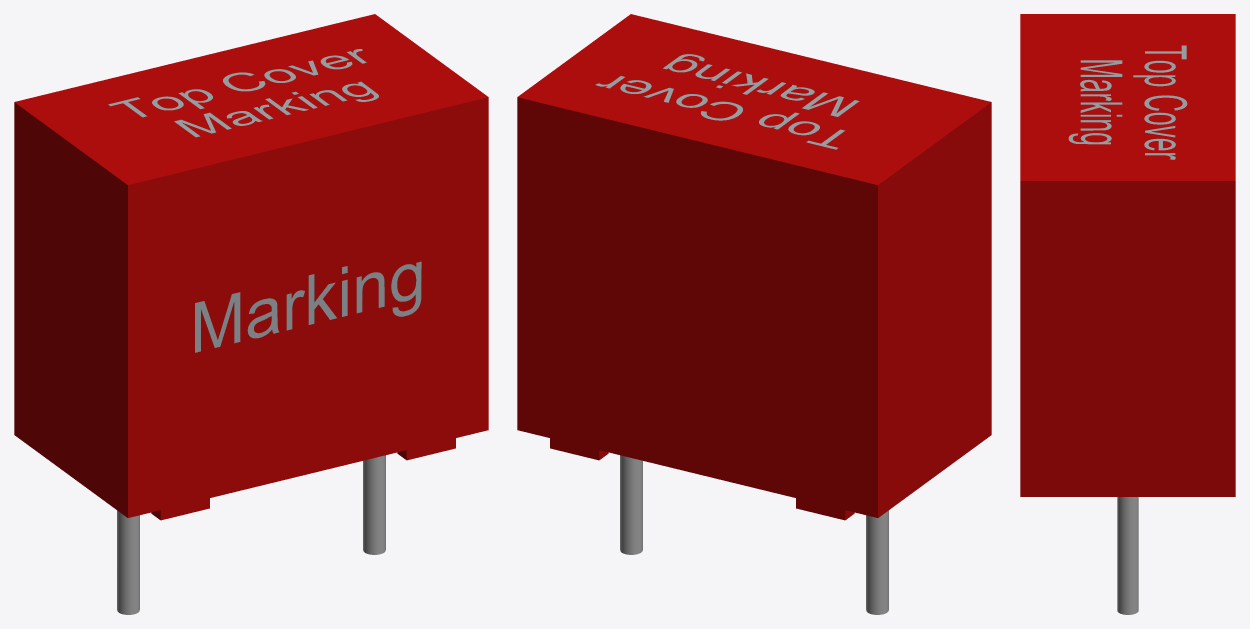
The model's file is WCAP-FTX2 Film Capacitors.gltf.
3 views of the same model, side by side, from view 1: azimuth 30°, elevation 25°; view 2: azimuth 150°, elevation 25°; view 3: azimuth 270°, elevation 25° (orthographic). The views are drawn at different scales.
Visible parts, largest first — view 1: 1; view 2: 1; view 3: 1.
Part boxes in pixels (x1,y1,x2,y2): 1: (14, 14, 488, 614); 1: (517, 14, 991, 614); 1: (1020, 14, 1235, 614).
Bounding box in the file's own units: 0.011 × 0.014 × 0.006.
